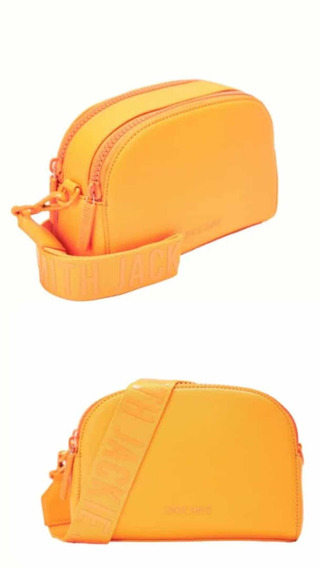cartera: (12, 80, 277, 305), (38, 377, 306, 545)
